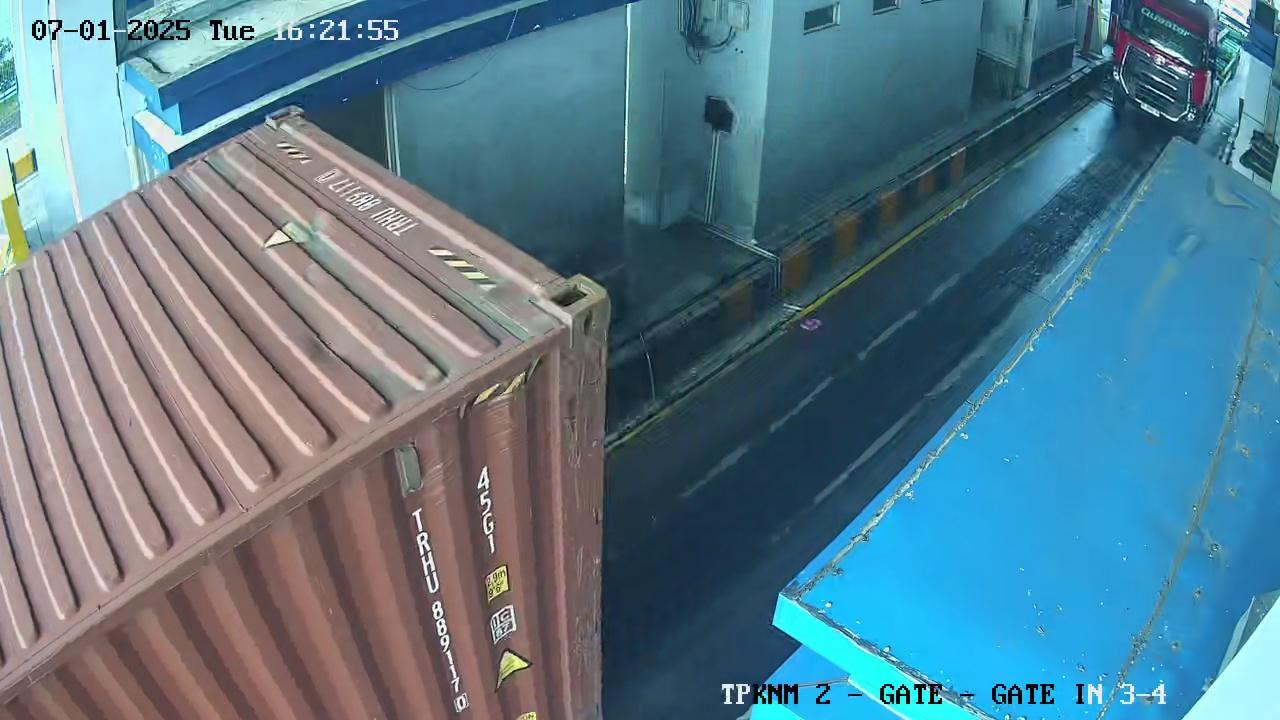Container_ID_Vertikal: (400, 486, 490, 719)
